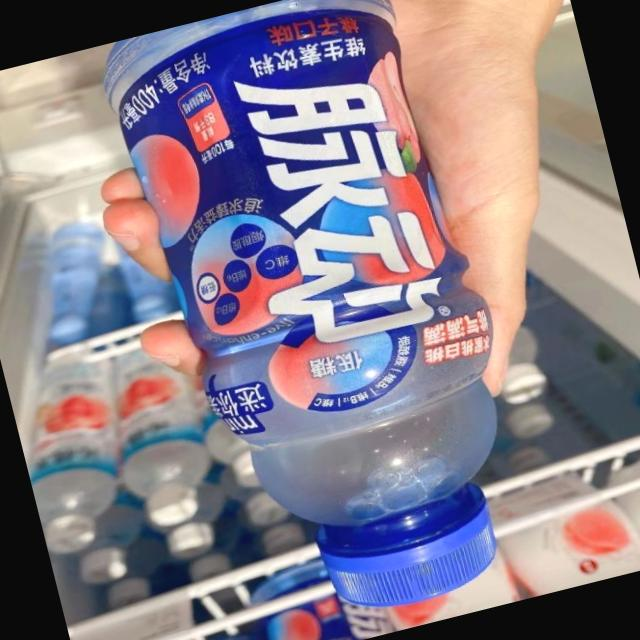bottle: (89, 0, 557, 640), (3, 347, 150, 552), (94, 352, 229, 534), (490, 464, 640, 601), (242, 546, 400, 640), (20, 216, 126, 350), (200, 404, 291, 535), (389, 571, 534, 631), (486, 328, 560, 408), (66, 529, 151, 589), (602, 444, 640, 572), (499, 398, 568, 447), (144, 625, 266, 640)
